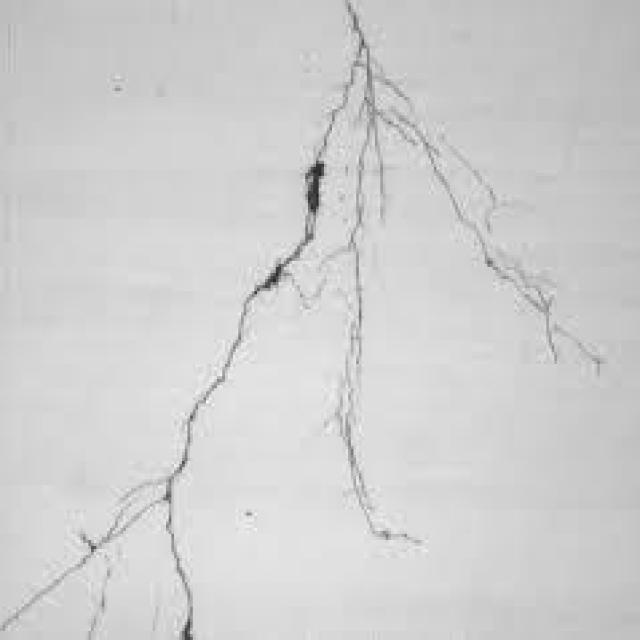Crack: (209, 252, 410, 558), (410, 91, 608, 373), (5, 367, 209, 640), (300, 3, 407, 255)
